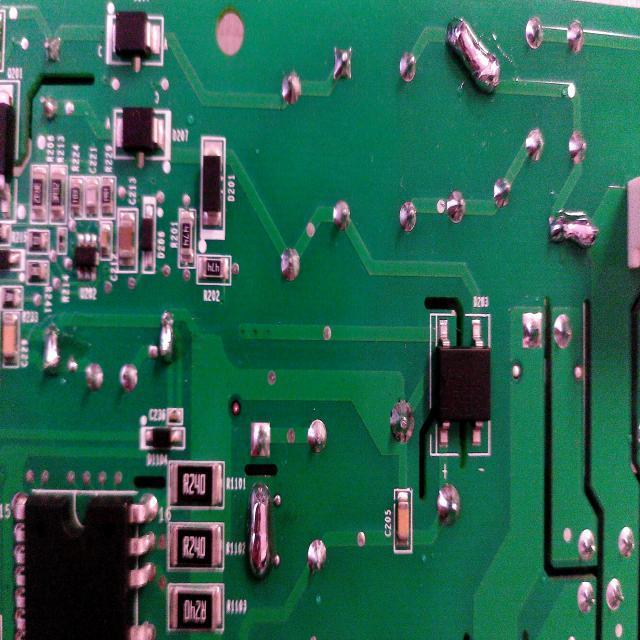Soldering shorted: (442, 15, 505, 99), (246, 483, 276, 589), (546, 201, 601, 258), (44, 318, 62, 374), (160, 307, 174, 368)
